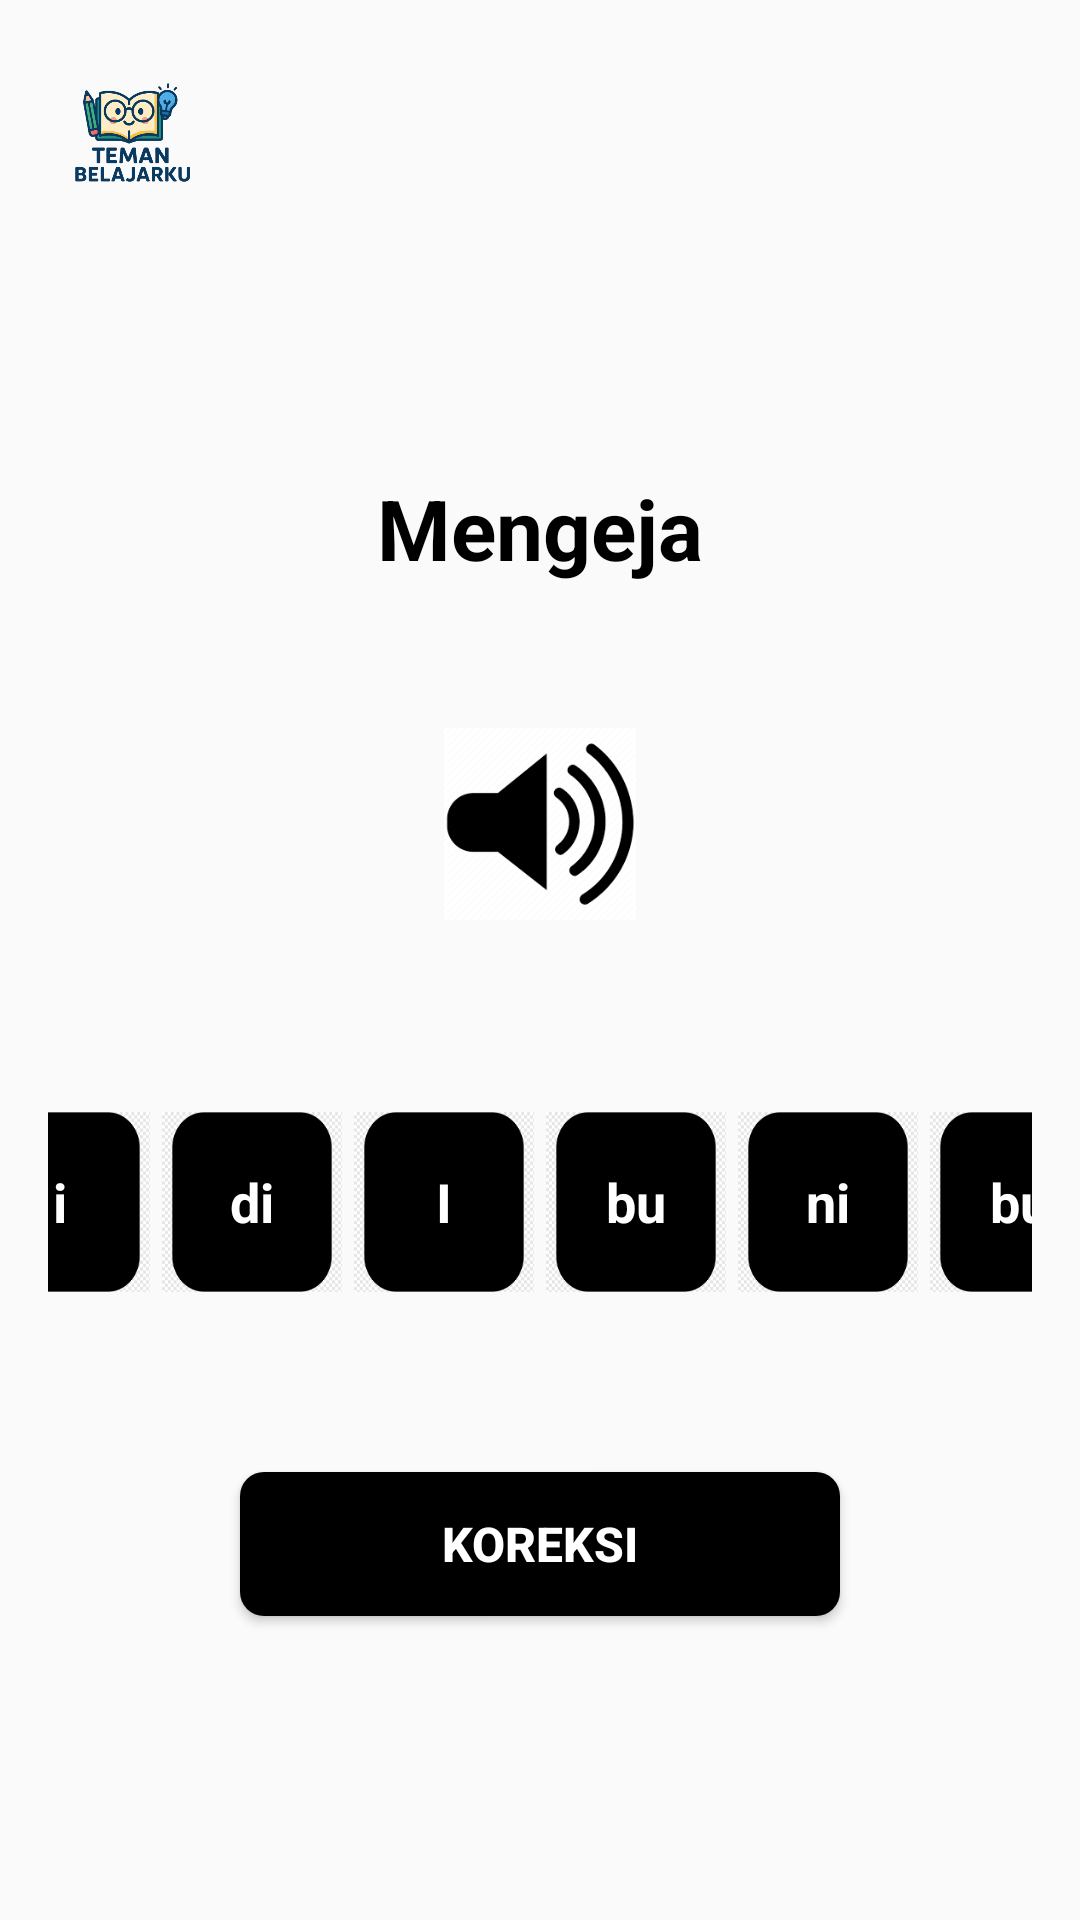

Icon bounding boxes for this 1080*1920 phone screenshot, format region(x1, y1, x2, y2):
speaker: region(446, 743, 634, 905)
